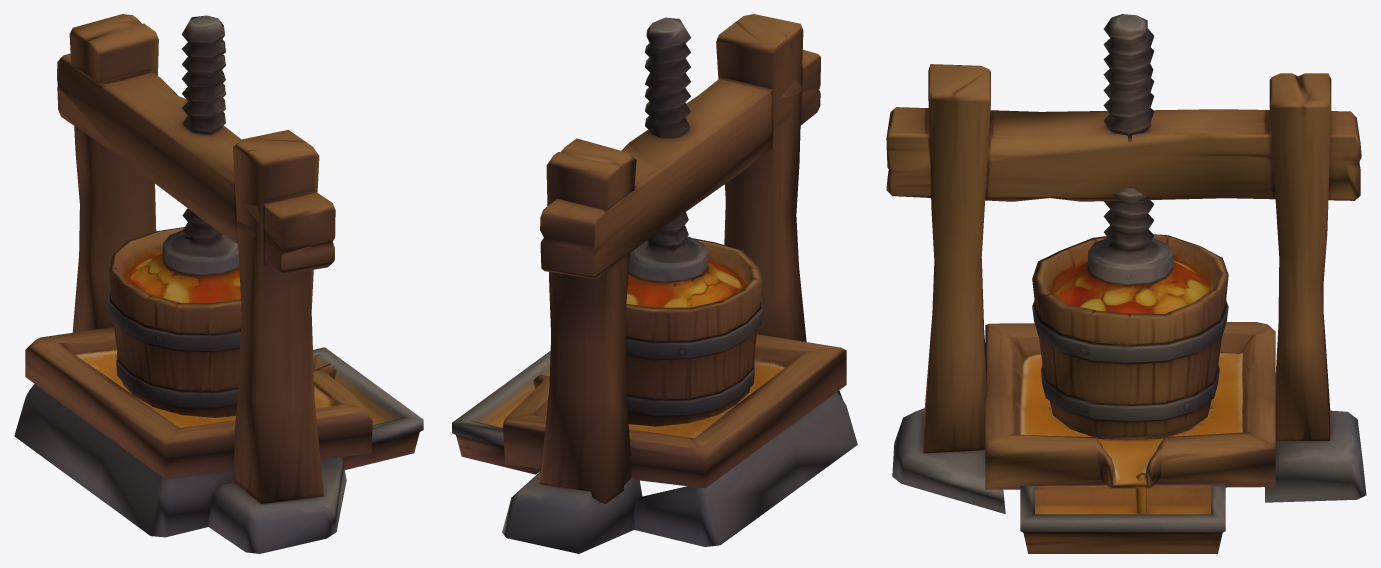
The model's file is map_press_tripo.glb.
3 renders of one model, left to right at view 1: azimuth 30°, elevation 25°; view 2: azimuth 150°, elevation 25°; view 3: azimuth 270°, elevation 25°, orthographic. The views are drawn at different scales.
Parts seen in each view (by area): view 1: tripo_node_52cd16dc-9534-4b2f-b292-d3a5cd92570d; view 2: tripo_node_52cd16dc-9534-4b2f-b292-d3a5cd92570d; view 3: tripo_node_52cd16dc-9534-4b2f-b292-d3a5cd92570d.
Part boxes in pixels (left/top/right/bottom): tripo_node_52cd16dc-9534-4b2f-b292-d3a5cd92570d: left=14, top=14, right=423, bottom=553; tripo_node_52cd16dc-9534-4b2f-b292-d3a5cd92570d: left=452, top=14, right=857, bottom=553; tripo_node_52cd16dc-9534-4b2f-b292-d3a5cd92570d: left=886, top=14, right=1366, bottom=553.
Bounding box in the file's own units: 0.6895 × 0.998 × 0.959.
1 material, 1 textured.
